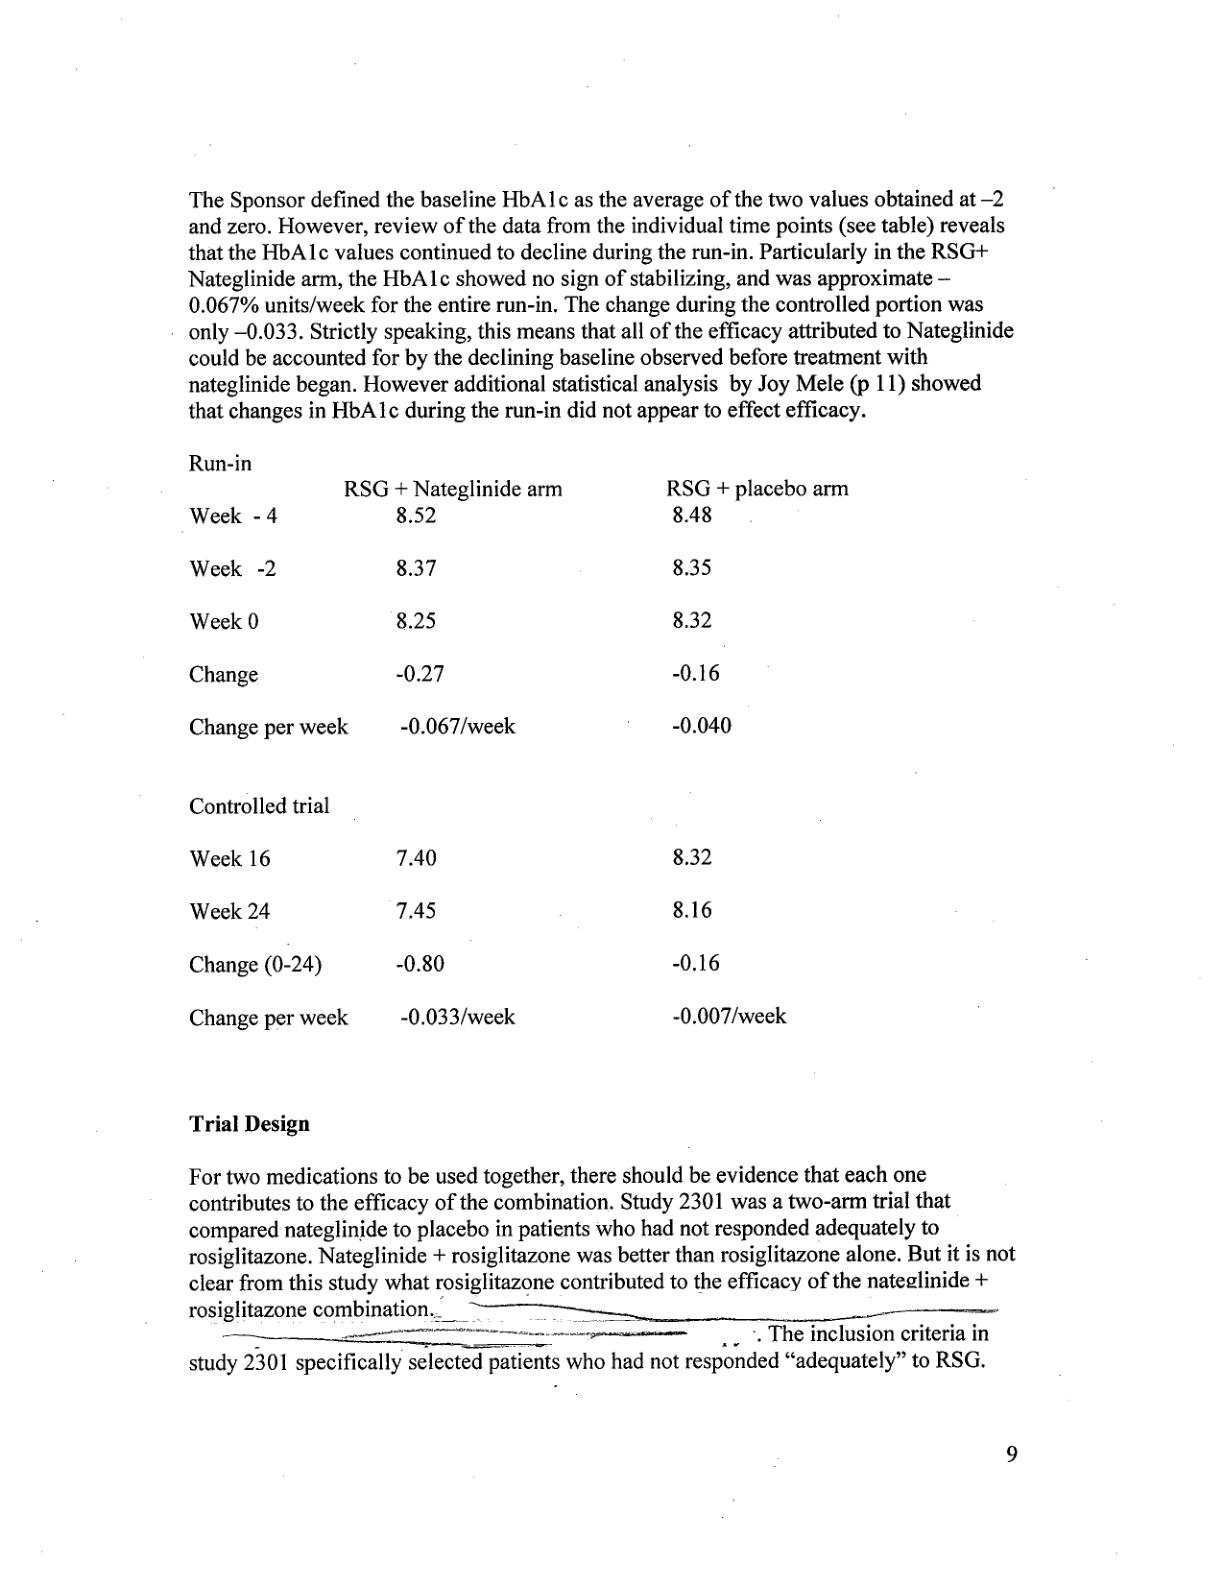nolines: (186, 450, 851, 1031)
